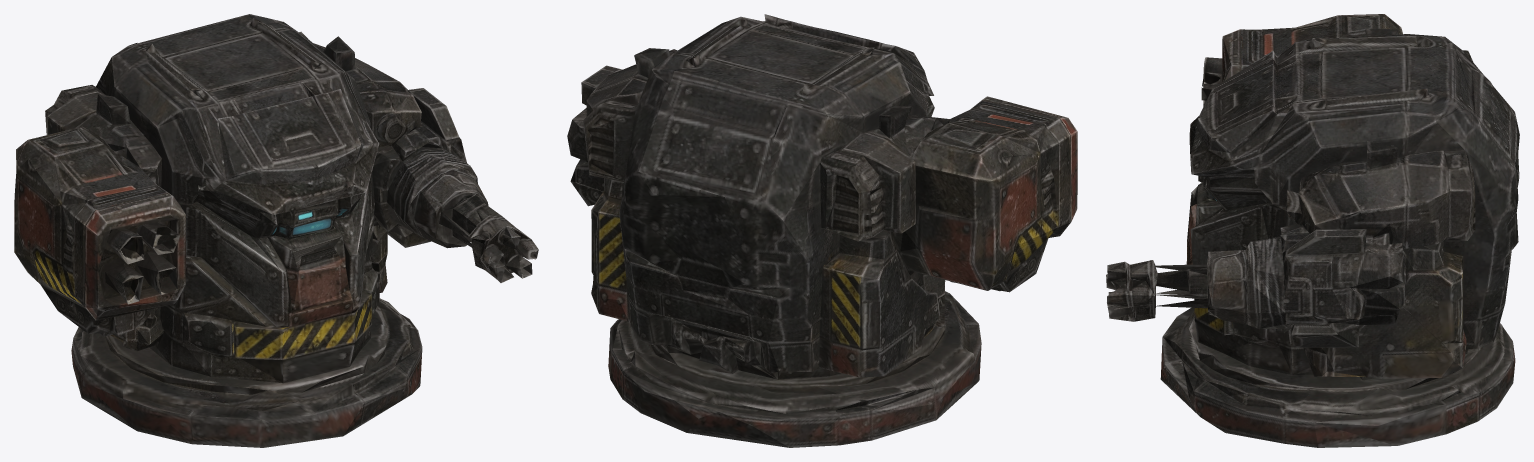
The model's file is citadel_sub_turret.glb.
The picture shows the model from 3 angles, left to right: view 1: azimuth 30°, elevation 25°; view 2: azimuth 150°, elevation 25°; view 3: azimuth 270°, elevation 25°; orthographic projection. The views are drawn at different scales.
Parts seen in each view (by area): view 1: output_unwrapped; view 2: output_unwrapped; view 3: output_unwrapped.
Boxes of the visible parts, box(x1,y1,x2,y2) form: output_unwrapped: box(14, 14, 538, 447); output_unwrapped: box(567, 14, 1077, 447); output_unwrapped: box(1106, 14, 1519, 447).
Bounding box in the file's own units: 1.9 × 1.39 × 1.67.
1 material, 1 textured.
